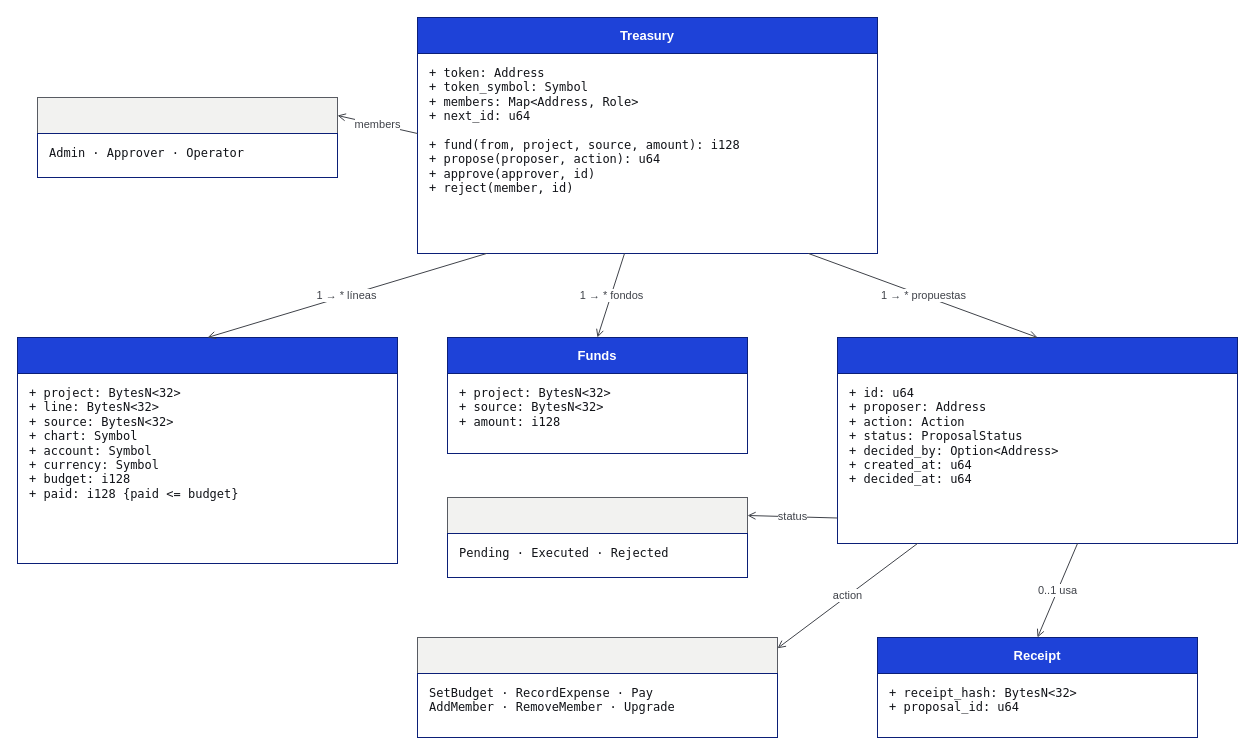
Image size: 1255x755. Some labels were removed from this diagram. Here are the shapes that lost their labels. From the top down, the centre of each, then its label:
point 187,115: «enum» Role
point 207,355: BudgetLine
point 1037,355: Proposal
point 597,515: «enum» ProposalStatus
point 597,655: «enum» Action
